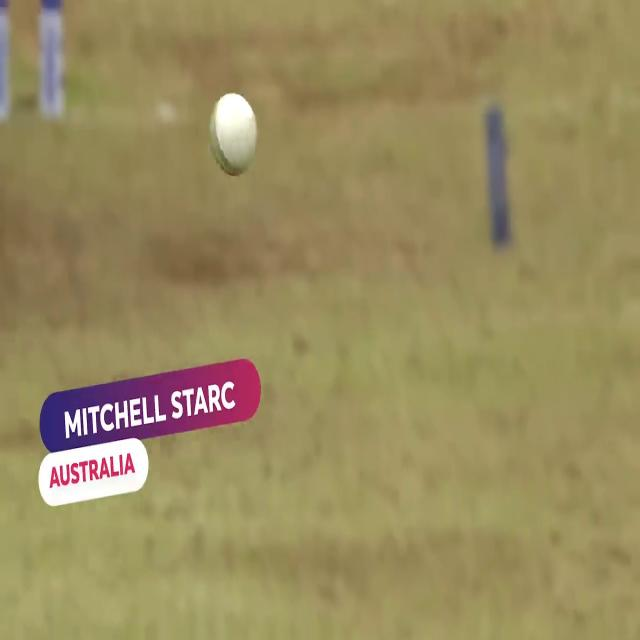ball: (204, 83, 264, 185)
